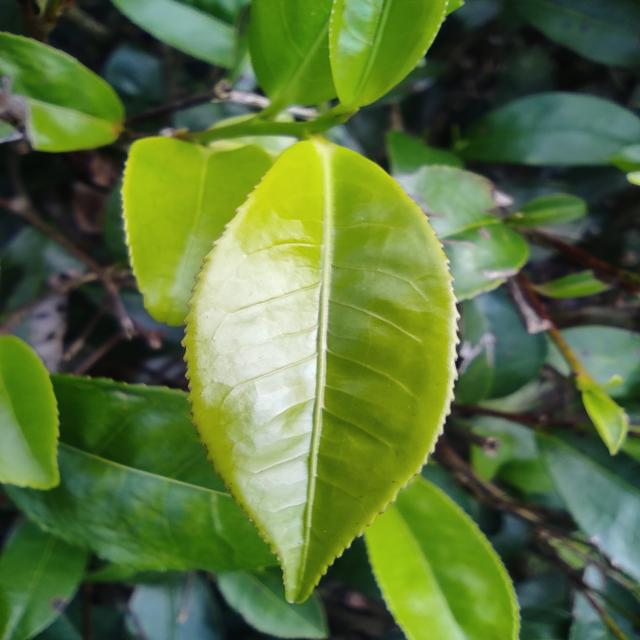Category B(2-4 days): (173, 125, 472, 608)
